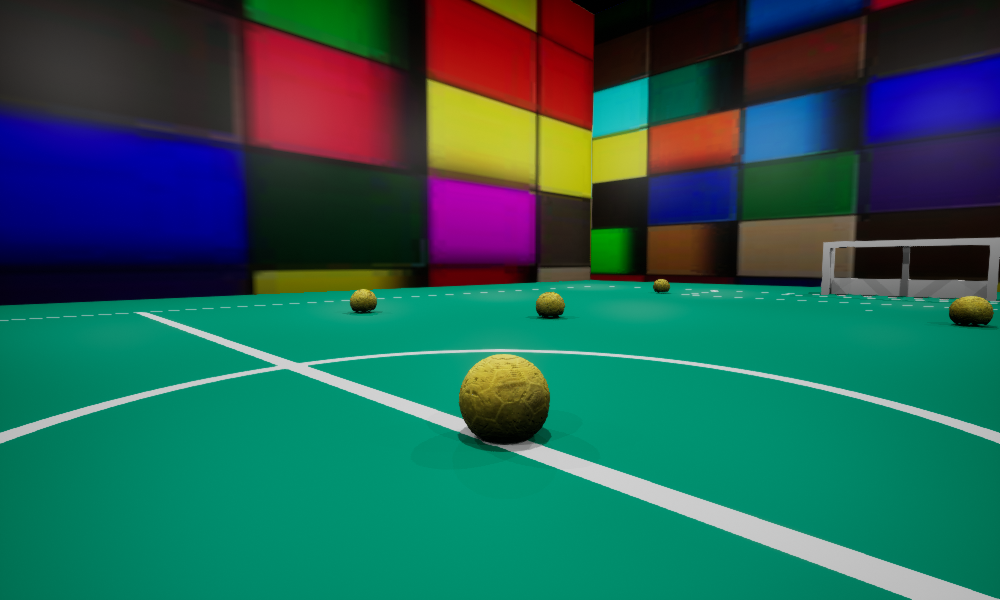b: (459, 354, 549, 442), (949, 296, 993, 326), (536, 292, 564, 317), (350, 289, 376, 312), (653, 279, 669, 292)
g: (821, 237, 999, 300)
